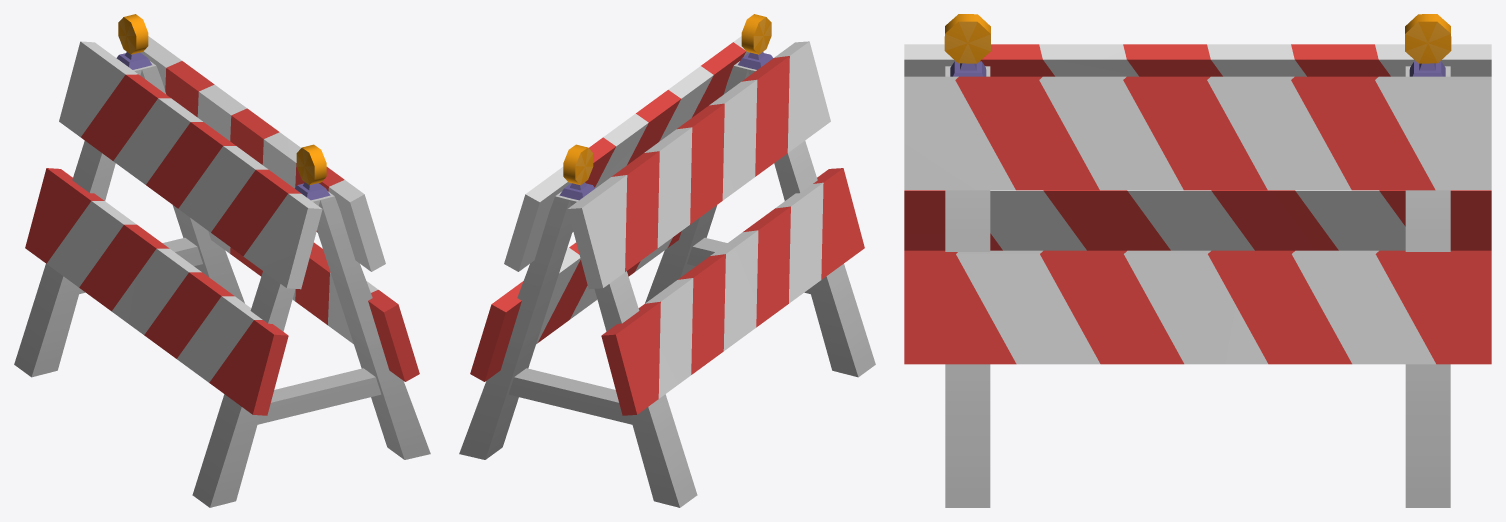
File: RoadBarier_1_B.fbx
3 renders of one model, left to right at view 1: azimuth 30°, elevation 25°; view 2: azimuth 150°, elevation 25°; view 3: azimuth 270°, elevation 25°, orthographic. The views are drawn at different scales.
Visible parts, largest first — view 1: RoadBarier_1_B; view 2: RoadBarier_1_B; view 3: RoadBarier_1_B.
Part boxes in pixels (x1,y1,x2,y2): RoadBarier_1_B: [14, 14, 430, 507]; RoadBarier_1_B: [459, 14, 875, 507]; RoadBarier_1_B: [904, 14, 1491, 507].
Bounding box in the file's own units: 78.62 × 111 × 140.
